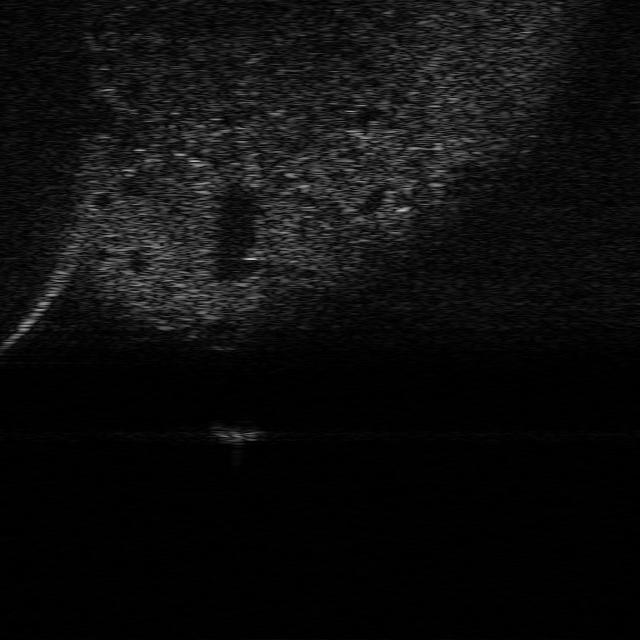cube: (212, 419, 262, 445)
